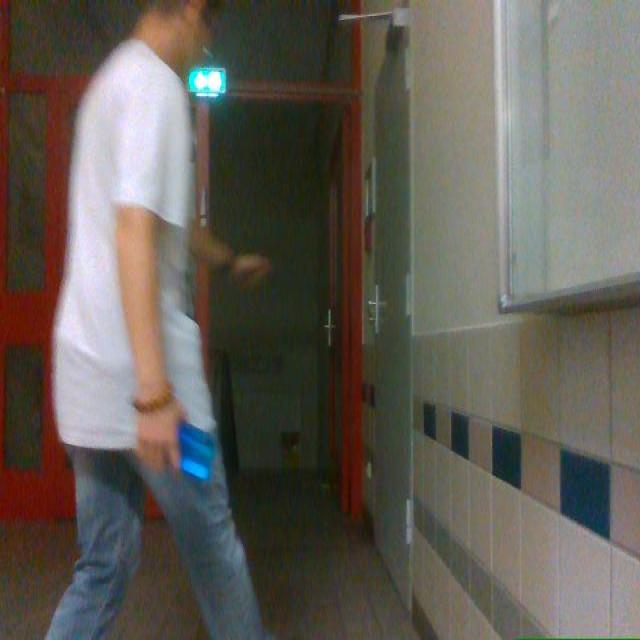humans: (46, 0, 268, 639)
